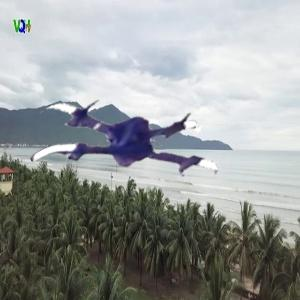drone: (31, 68, 216, 253)
